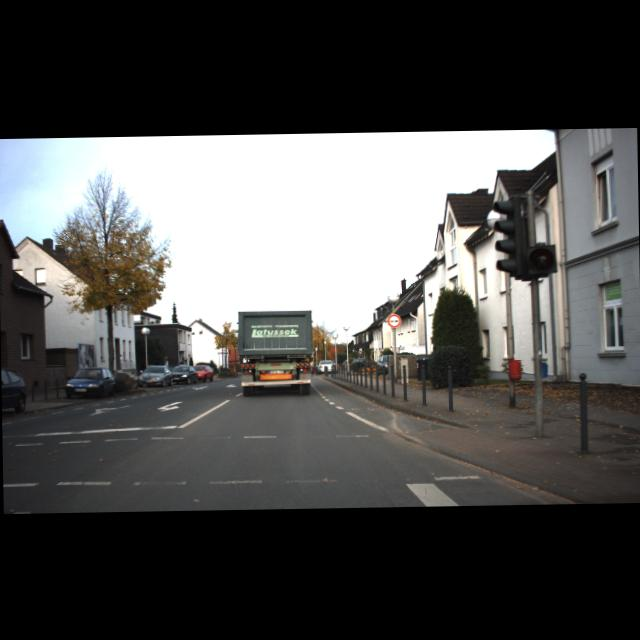prohibitory: (386, 313, 399, 326)
